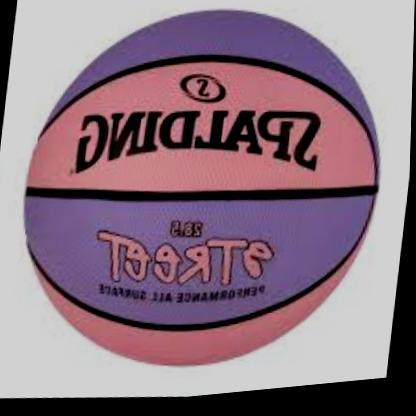basketball: (7, 0, 399, 396)
